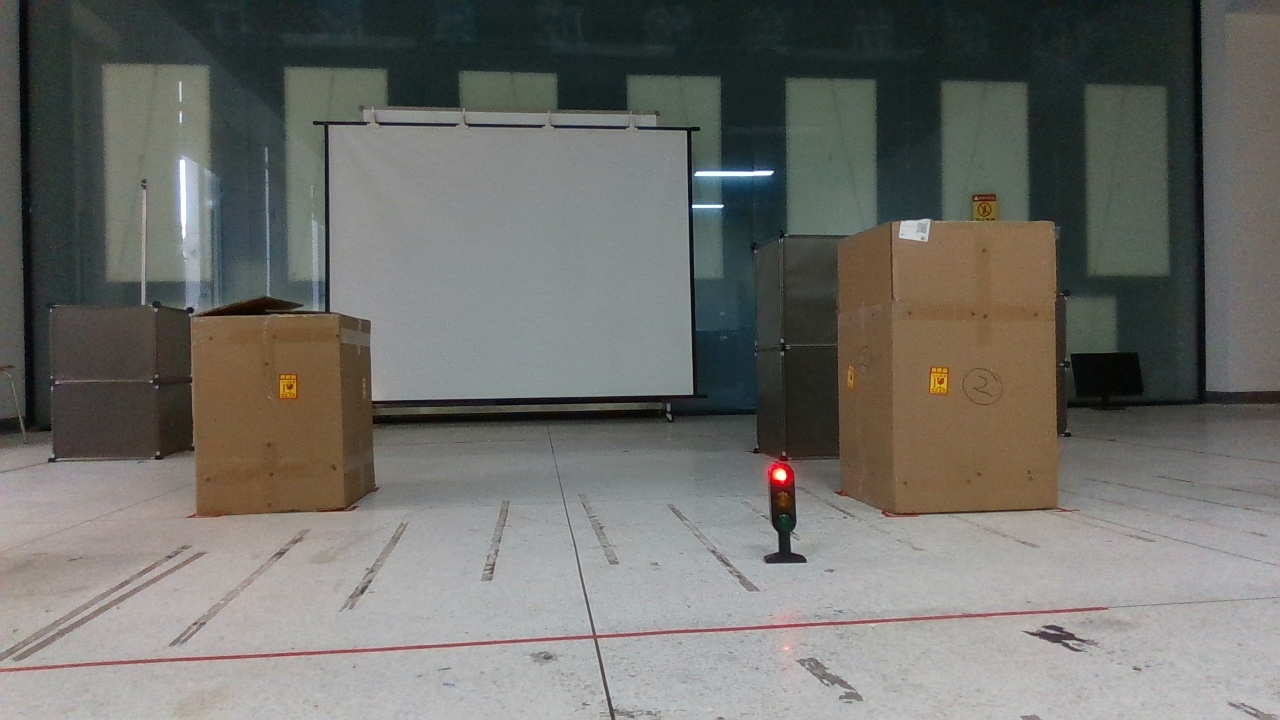red_light: (751, 450, 821, 575)
